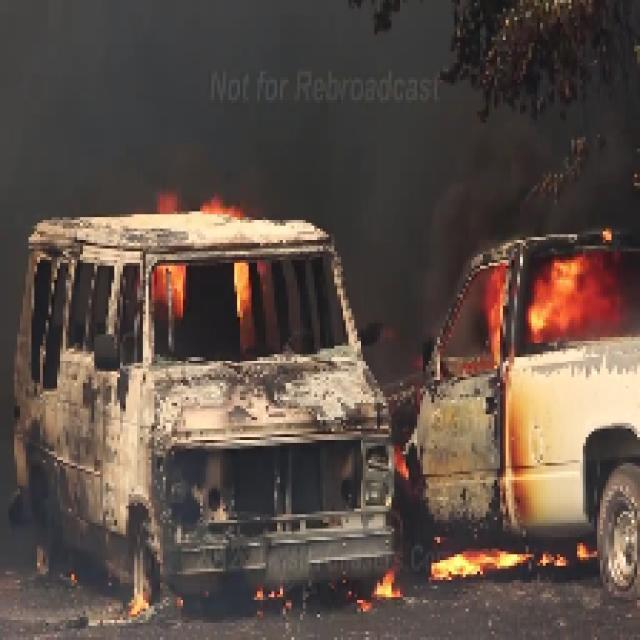Fire: (463, 245, 631, 348)
Smoke: (54, 97, 509, 214)
